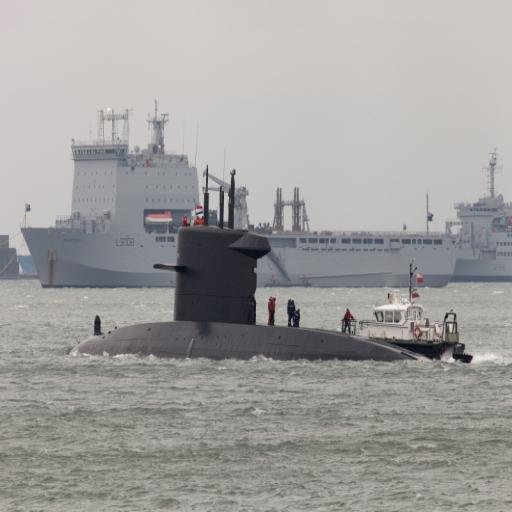submarine: (54, 174, 429, 365)
